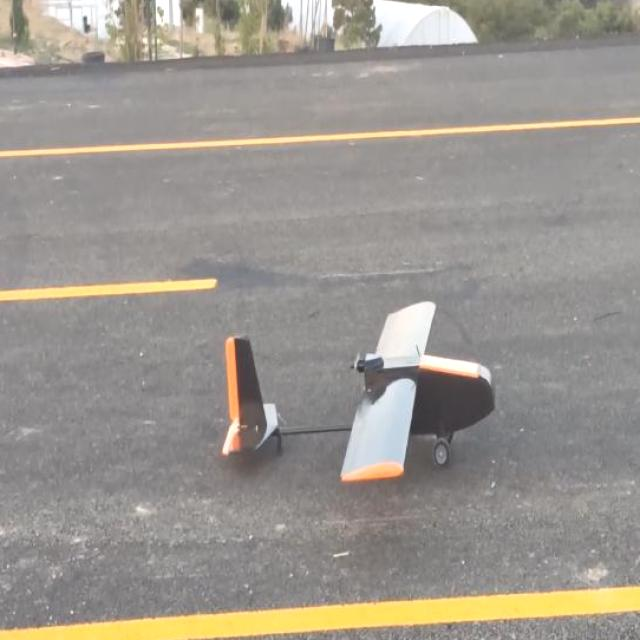plane: (218, 297, 496, 483)
